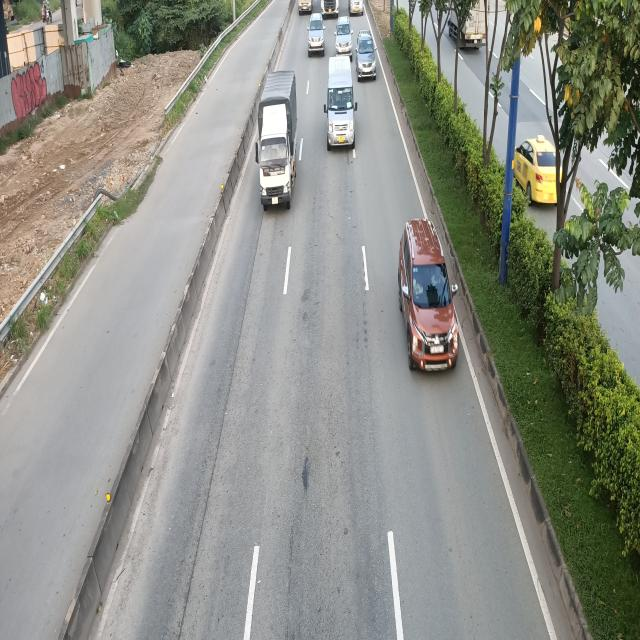car: (398, 217, 458, 373), (353, 29, 376, 80), (306, 15, 325, 56), (336, 17, 353, 53)
truck: (256, 72, 300, 210)
van: (325, 55, 359, 150)
